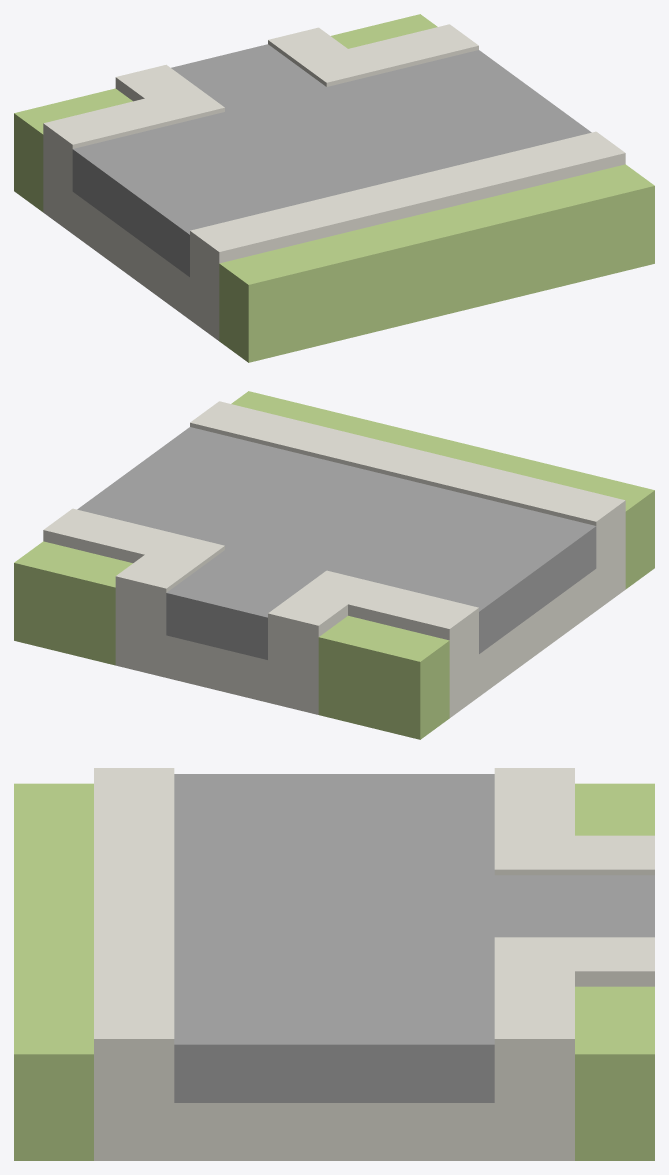
File: tile067.glb
3 renders of one model, top to bottom at view 1: azimuth 30°, elevation 25°; view 2: azimuth 150°, elevation 25°; view 3: azimuth 270°, elevation 25°, orthographic. The views are drawn at different scales.
Visible parts, largest first — view 1: tile067; view 2: tile067; view 3: tile067.
Boxes of the visible parts, <box> form: tile067: <box>14,14,654,362</box>; tile067: <box>14,391,654,739</box>; tile067: <box>14,768,654,1160</box>.
Size of the model in its own units: 1 by 0.21 by 1.
